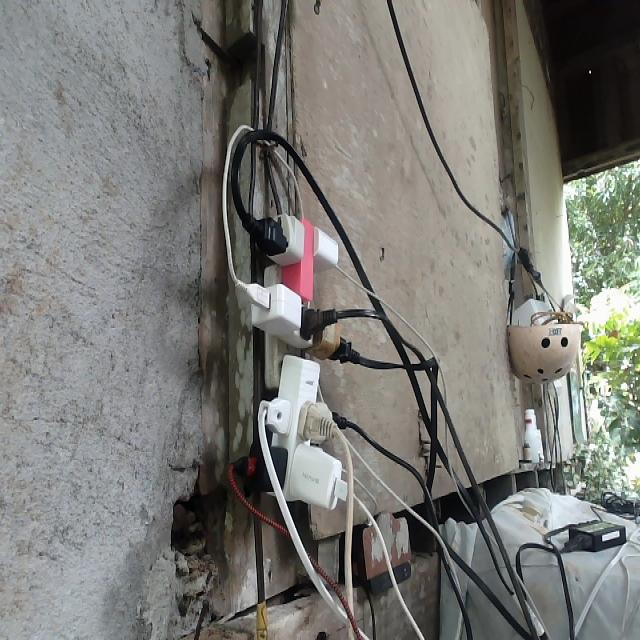-: (222, 124, 378, 515)
